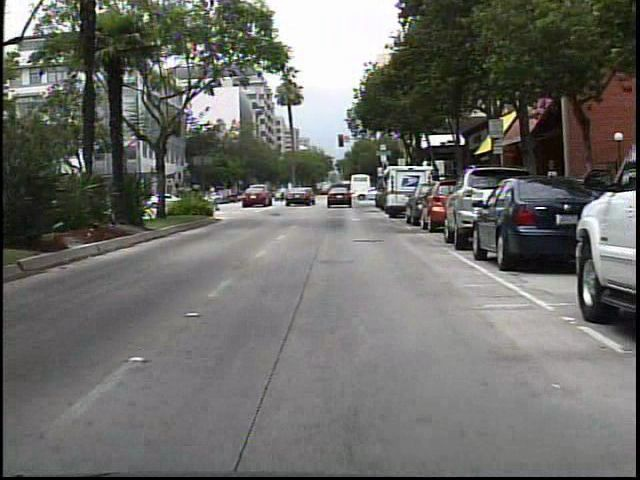person: (277, 181, 291, 205), (292, 183, 306, 205)
